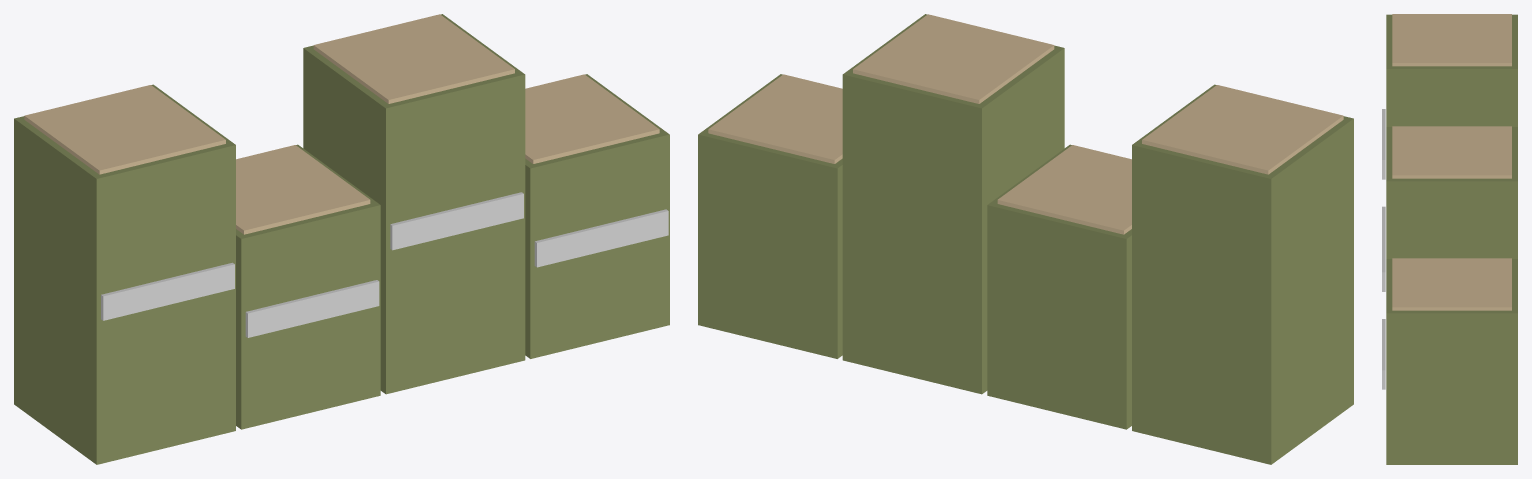
The model's file is SM_HescoCorto4_v2_Escalonado_e0_Sano_LOD1.fbx.
3 views of the same model, side by side, from view 1: azimuth 30°, elevation 25°; view 2: azimuth 150°, elevation 25°; view 3: azimuth 270°, elevation 25° (orthographic). The views are drawn at different scales.
Parts seen in each view (by area): view 1: SM_hesco_piezas_v108_LOD1; view 2: SM_hesco_piezas_v108_LOD1; view 3: SM_hesco_piezas_v108_LOD1.
Boxes of the visible parts, left/top/right/bottom form: SM_hesco_piezas_v108_LOD1: left=14, top=14, right=669, bottom=464; SM_hesco_piezas_v108_LOD1: left=698, top=14, right=1353, bottom=464; SM_hesco_piezas_v108_LOD1: left=1382, top=14, right=1517, bottom=464.
Size of the model in its own units: 4.4 by 2.13 by 1.13.
